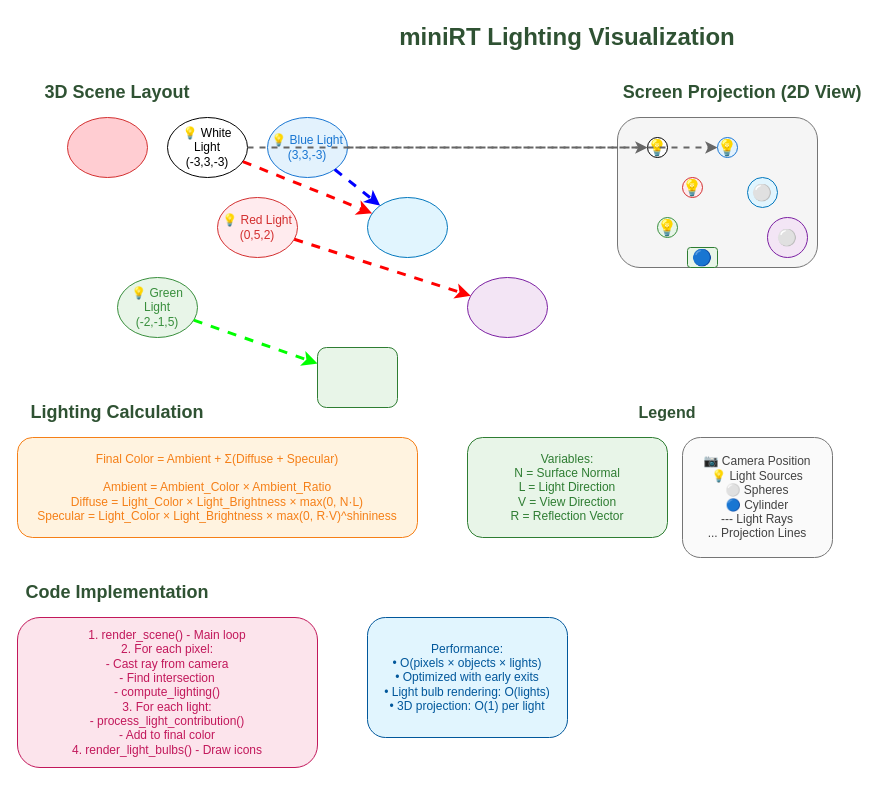
Image size: 885x785. Some labels were removed from this diagram. Each missing label, with the box of its shape:
Screen (800x600): (616, 116, 818, 268)
⚪ Sphere 1 (2,0,0) Radius: 1: (366, 196, 448, 258)
⚪ Sphere 2 (-1,0,10) Radius: 5: (466, 276, 548, 338)
📷 Camera (0,0,-10): (66, 116, 148, 178)
🔵 Cylinder (0,-3,3) Height: 3: (316, 346, 398, 408)
